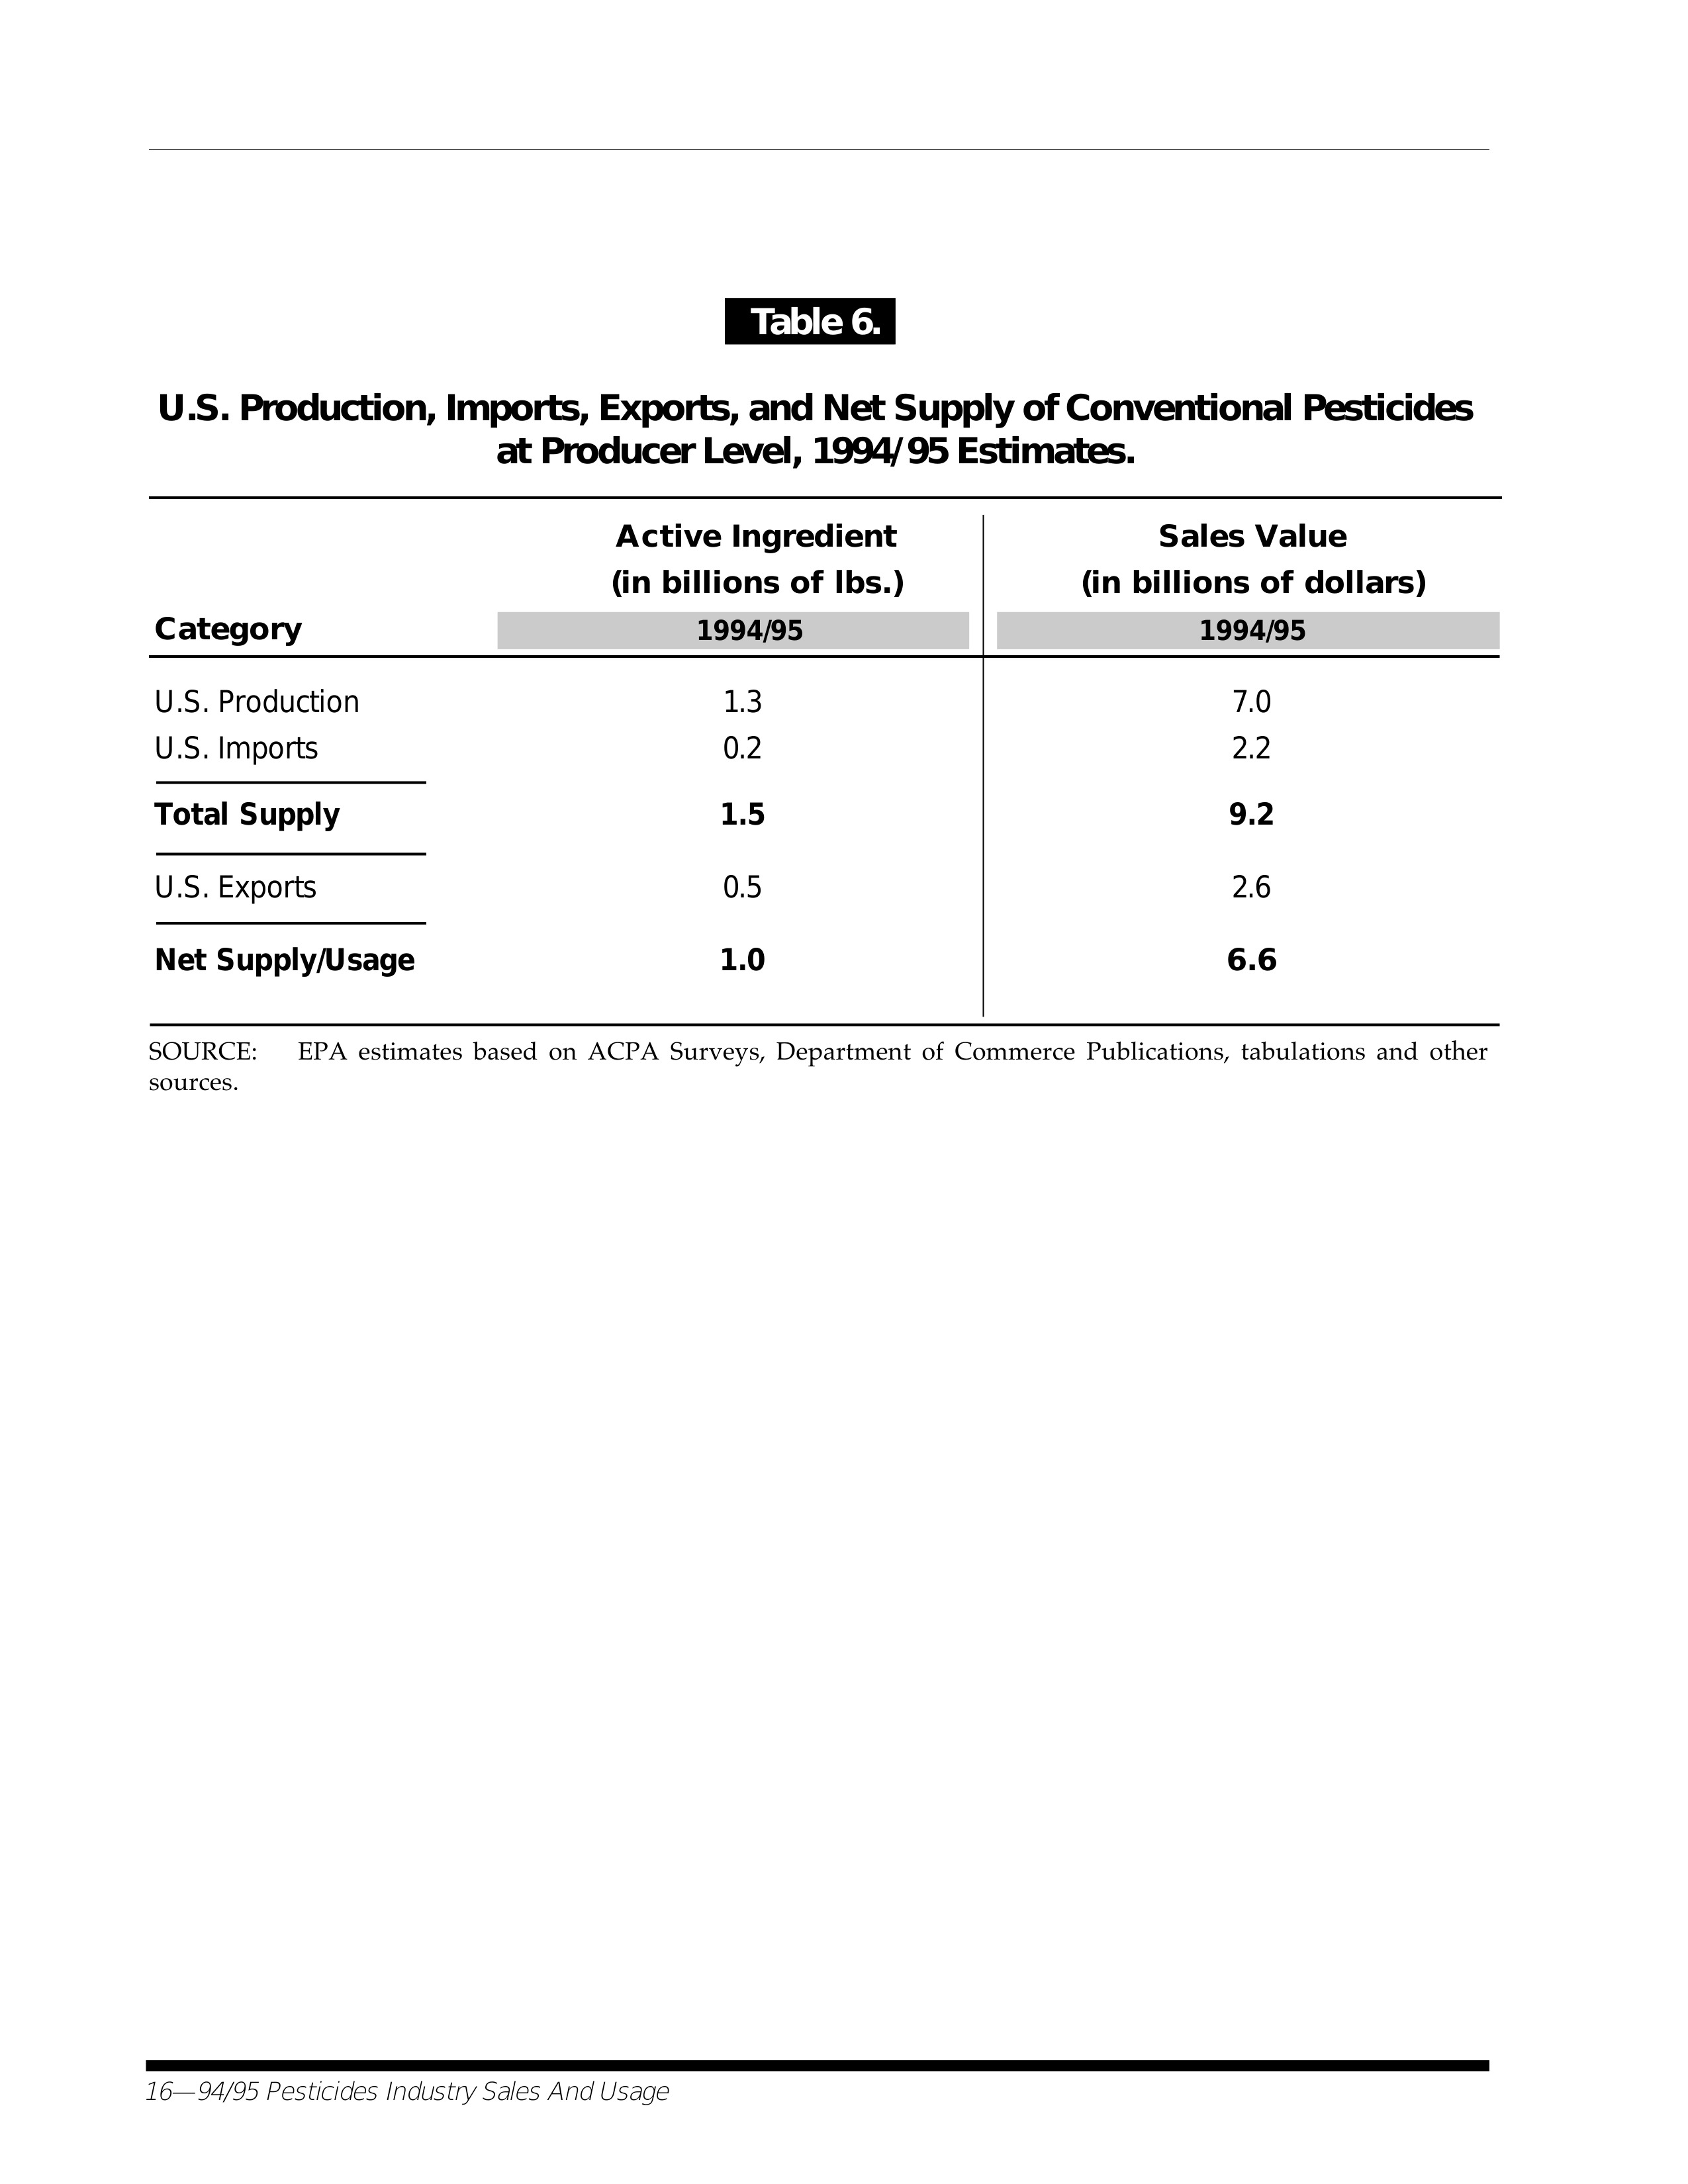table: (154, 518, 1427, 977)
